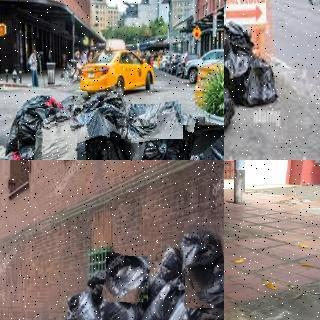Garbage: (19, 106, 112, 160), (65, 88, 129, 139), (178, 224, 224, 291), (228, 54, 280, 106), (104, 254, 150, 304), (127, 102, 182, 141), (184, 259, 224, 308), (130, 124, 184, 160), (84, 136, 141, 160), (152, 245, 182, 280), (224, 67, 240, 130), (66, 290, 98, 320), (224, 17, 232, 66)
